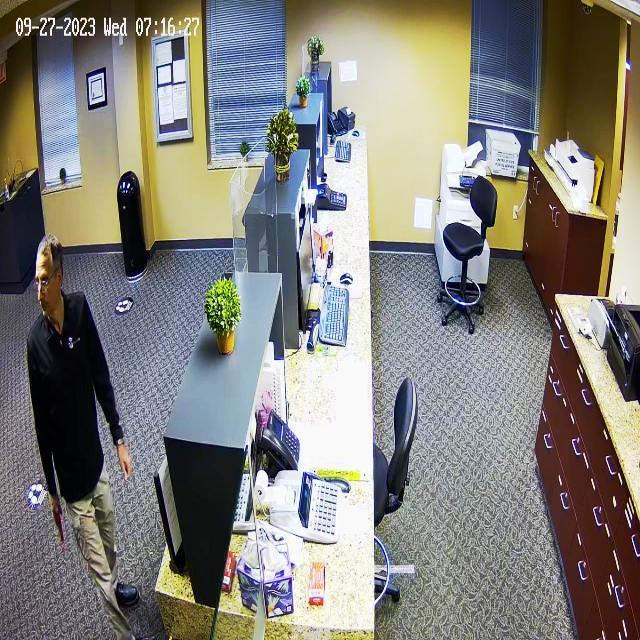Gun: (50, 488, 80, 568)
